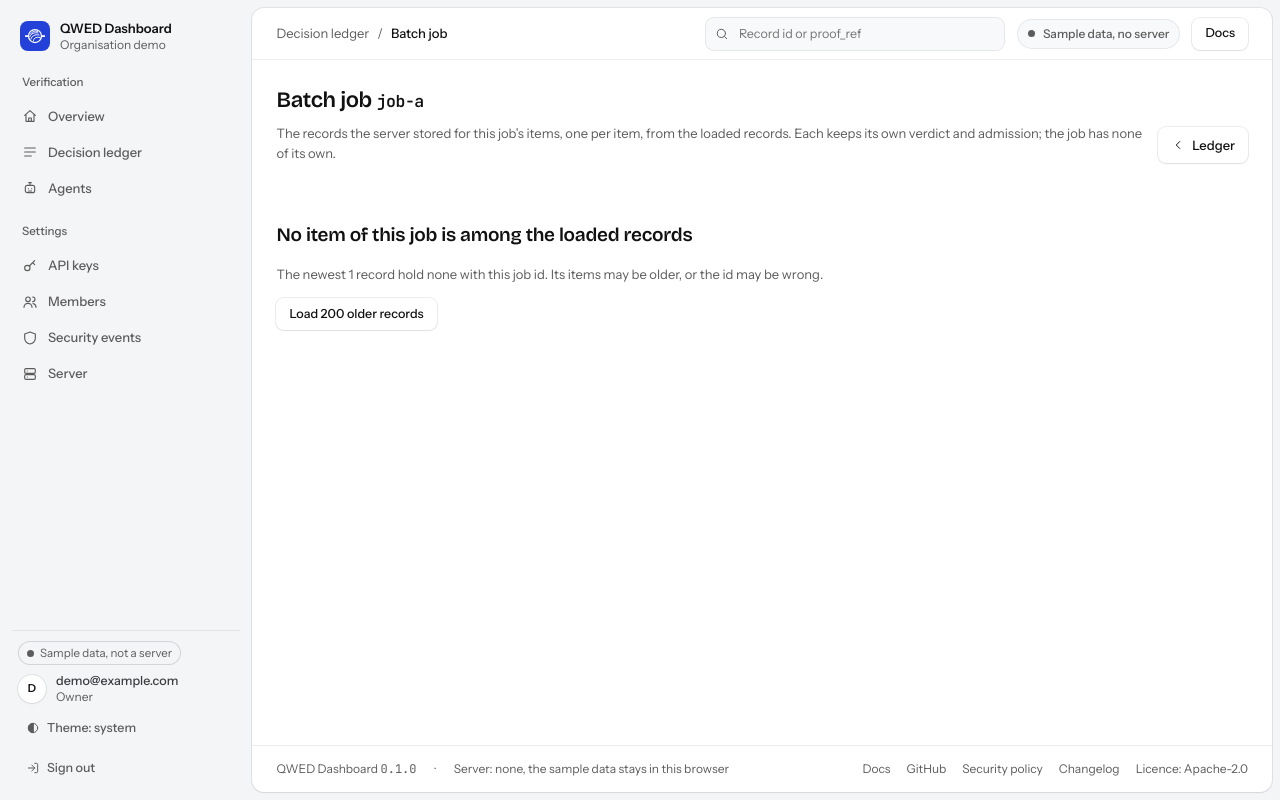
Test: BatchPage › says when no loaded record has the job, and loads older ones on request
Expected: the heading "No item of this job is among the loaded records" is shown, x1=276 y1=223 x2=692 y2=246
Expected: the text "The newest 1 record hold none with this job id" is shown, x1=276 y1=266 x2=823 y2=282
Step 1. Click the button "Load 200 older records" → coordinates (357, 314), box x1=276 y1=298 x2=437 y2=330
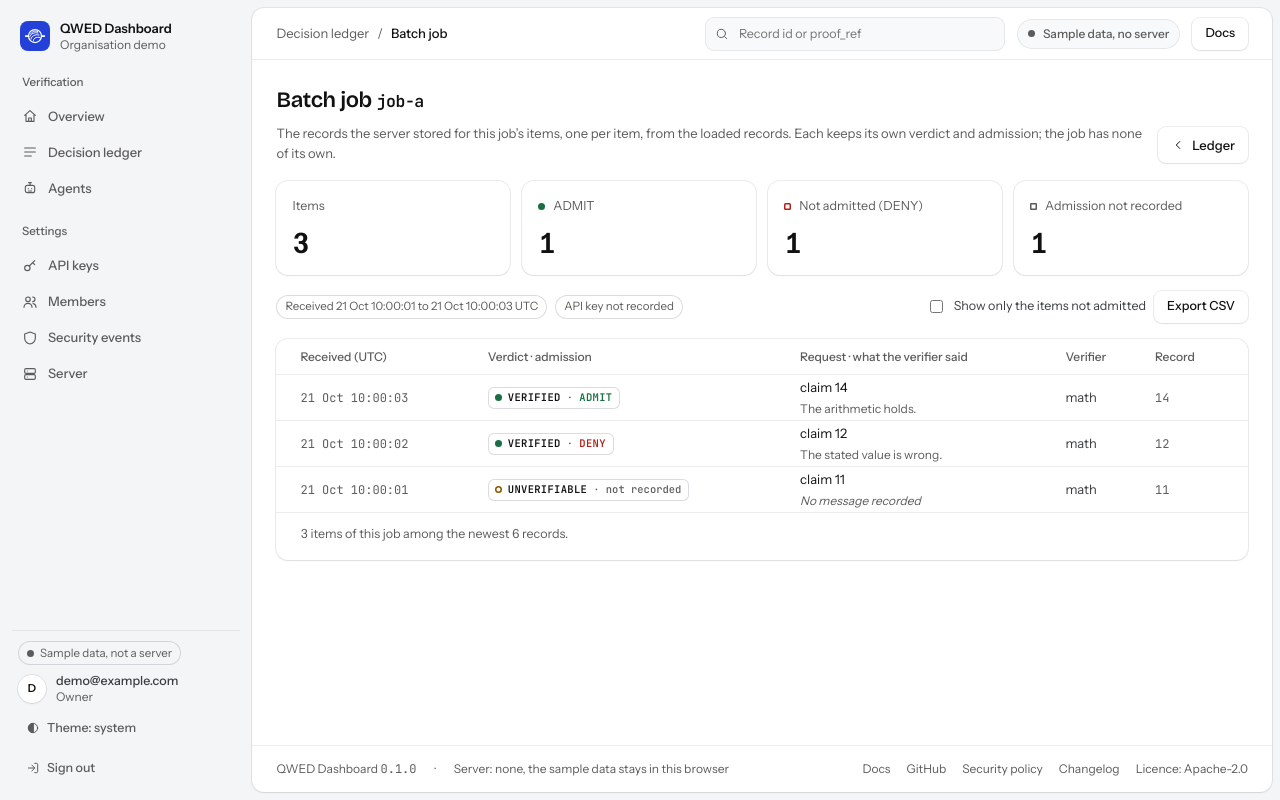
Expected: the link "claim 14" is shown, x1=800 y1=379 x2=847 y2=395
Expected: the text "3 items of this job among the newest 6 records." is shown, x1=300 y1=525 x2=568 y2=544
